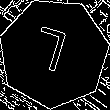L_S: (32, 24, 76, 82)
